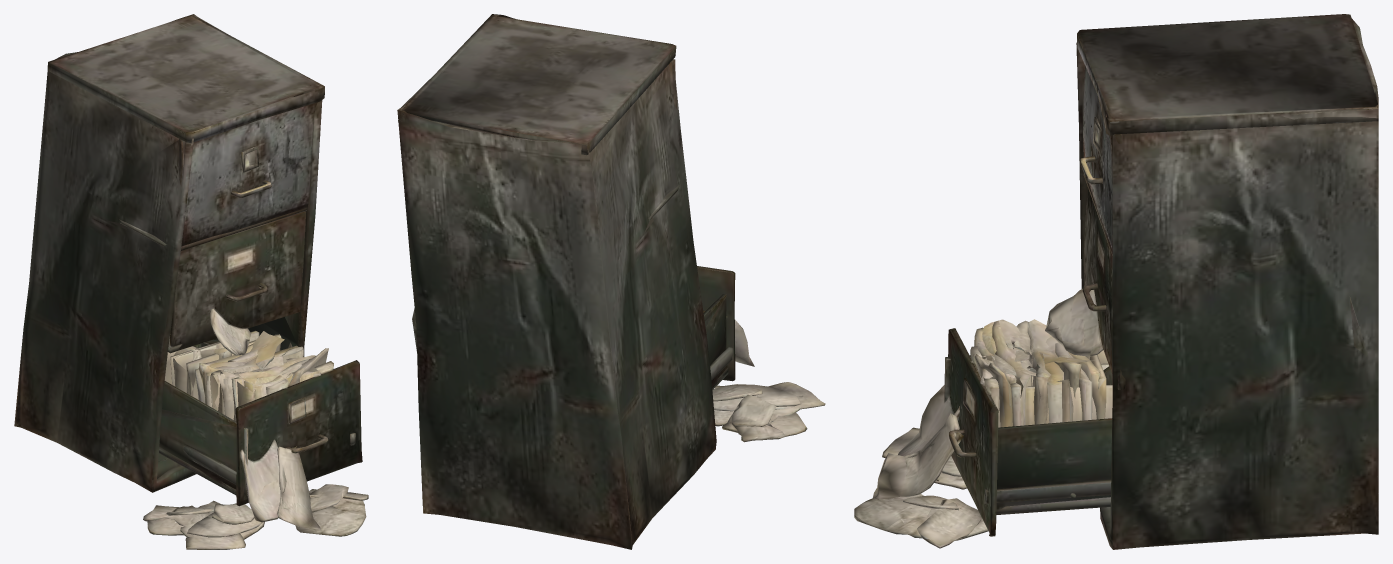
Rendered from filing.glb.
3 renders of one model, left to right at view 1: azimuth 30°, elevation 25°; view 2: azimuth 150°, elevation 25°; view 3: azimuth 270°, elevation 25°, orthographic. The views are drawn at different scales.
Size of the model in its own units: 0.624 by 0.9335 by 1.
1 material, 1 textured.
